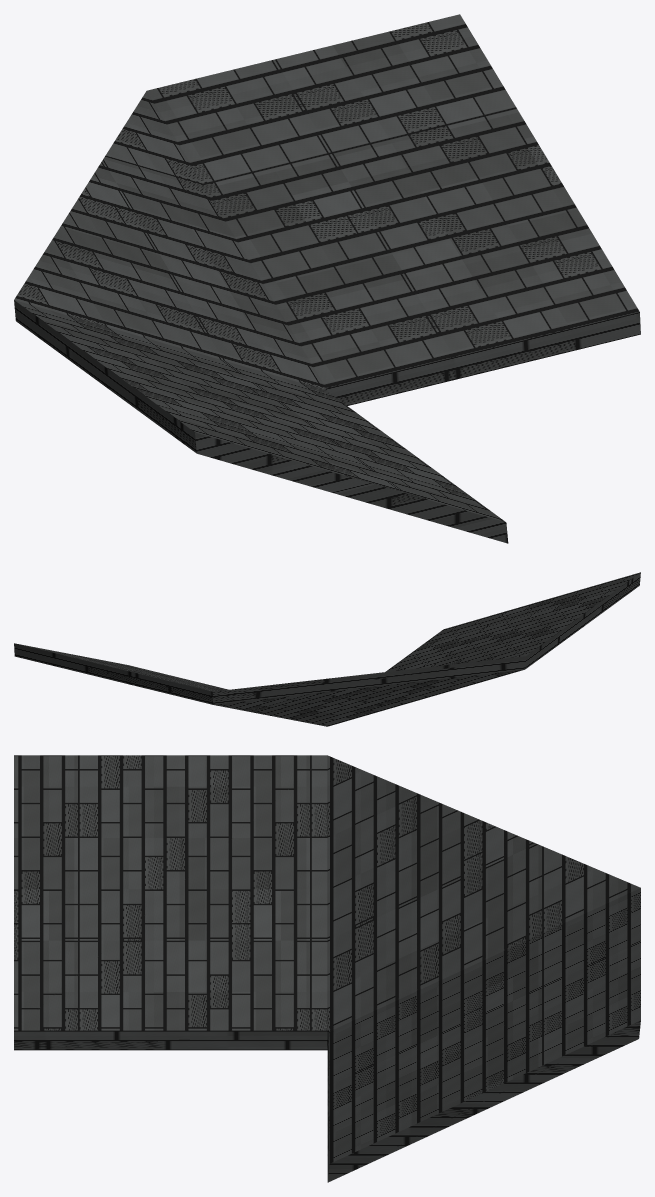
Rendered from theodosian slate roof corner.glb.
3 renders of one model, top to bottom at view 1: azimuth 30°, elevation 25°; view 2: azimuth 150°, elevation 25°; view 3: azimuth 270°, elevation 25°, orthographic. The views are drawn at different scales.
Parts seen in each view (by area): view 1: Theodosian_slate_corner; view 2: Theodosian_slate_corner; view 3: Theodosian_slate_corner.
Part boxes in pixels (box(x1,y1,x2,y2)): Theodosian_slate_corner: box(14, 14, 640, 543); Theodosian_slate_corner: box(14, 572, 640, 726); Theodosian_slate_corner: box(14, 755, 640, 1182).
Size of the model in its own units: 2 by 0.5726 by 2.
1 material, 1 textured.
